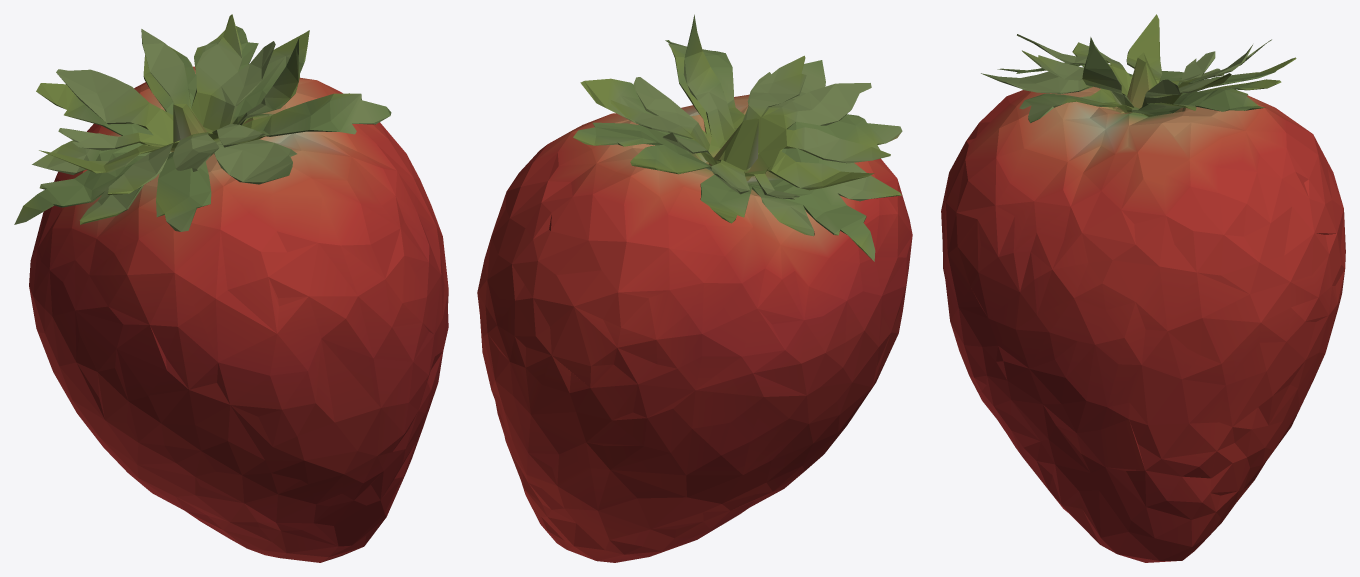
File: strawberry_suit.glb
The picture shows the model from 3 angles, left to right: view 1: azimuth 30°, elevation 25°; view 2: azimuth 150°, elevation 25°; view 3: azimuth 270°, elevation 25°; orthographic projection. The views are drawn at different scales.
Parts seen in each view (by area): view 1: geometry_0; view 2: geometry_0; view 3: geometry_0.
Boxes of the visible parts, box(x1,y1,x2,y2) form: geometry_0: box(14, 14, 448, 562); geometry_0: box(477, 14, 912, 562); geometry_0: box(941, 14, 1345, 562).
Size of the model in its own units: 0.5815 by 0.7807 by 0.5745.
